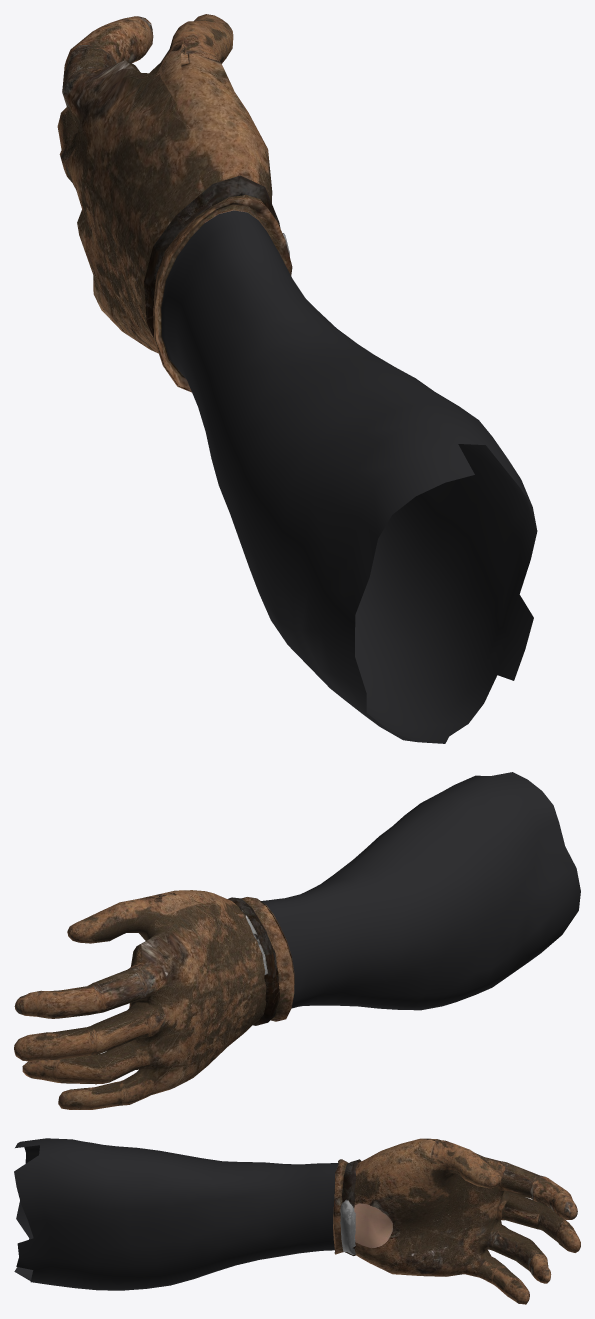
Rendered from FP_Glove_Shield_L.gltf.
3 views of the same model, one above another, from view 1: azimuth 30°, elevation 25°; view 2: azimuth 150°, elevation 25°; view 3: azimuth 270°, elevation 25° (orthographic). The views are drawn at different scales.
Visible parts, largest first — view 1: FP_Glove_Shield_L_Sleeve, FP_Glove_Shield_L_Hand; view 2: FP_Glove_Shield_L_Sleeve, FP_Glove_Shield_L_Hand; view 3: FP_Glove_Shield_L_Sleeve, FP_Glove_Shield_L_Hand.
Boxes of the visible parts, x1=… form: FP_Glove_Shield_L_Sleeve: x1=161, y1=210, x2=537, y2=743; FP_Glove_Shield_L_Hand: x1=57, y1=14, x2=292, y2=392; FP_Glove_Shield_L_Sleeve: x1=261, y1=772, x2=580, y2=1010; FP_Glove_Shield_L_Hand: x1=14, y1=890, x2=294, y2=1109; FP_Glove_Shield_L_Sleeve: x1=14, y1=1138, x2=338, y2=1290; FP_Glove_Shield_L_Hand: x1=333, y1=1138, x2=580, y2=1304.
Size of the model in its own units: 0.1577 by 0.1517 by 0.4307.
2 materials, 1 textured.
